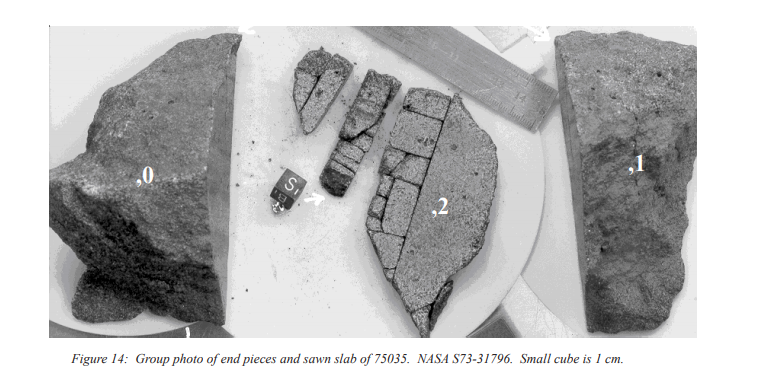Basalt: (267, 59, 502, 330), (44, 27, 235, 318), (554, 26, 691, 334)
